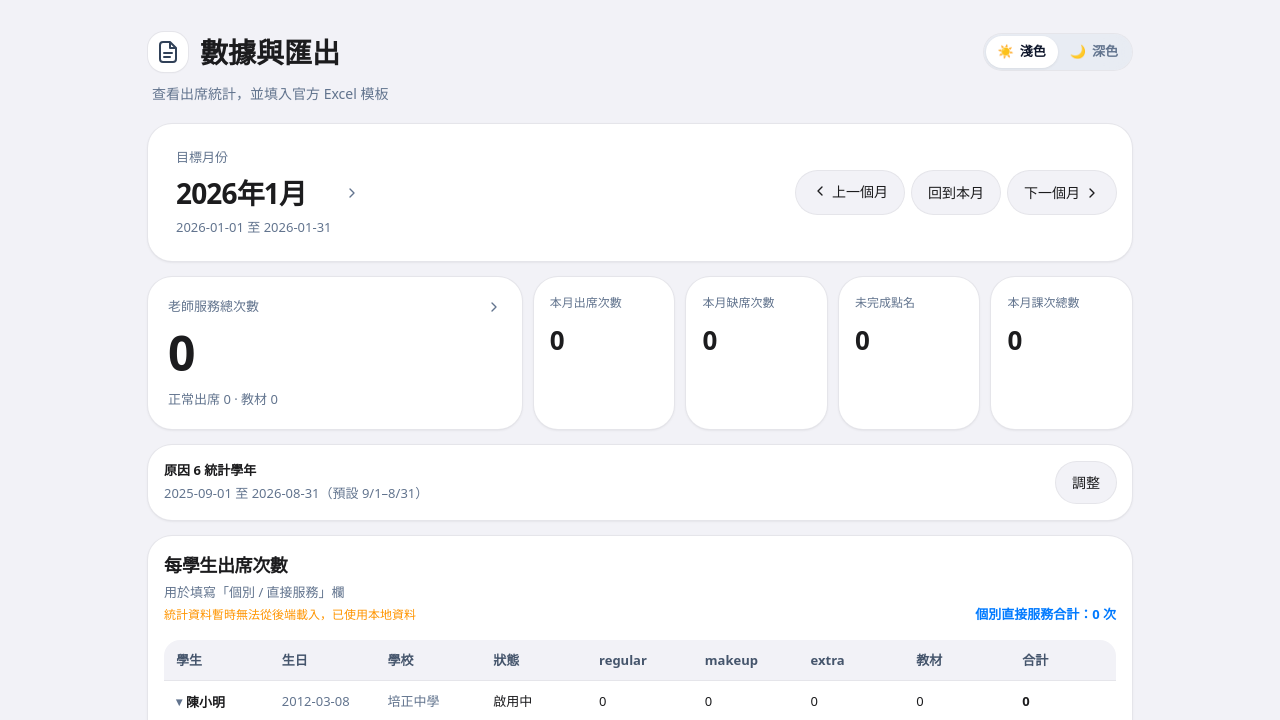
Scenario: DataPage › blocks invalid teacher-service ranges and resets to the default when reopened
Click the button "老師服務總次數 0 正常出席 0 · 教材 0".
click(214, 306)  # box x1=148 y1=277 x2=522 y2=428
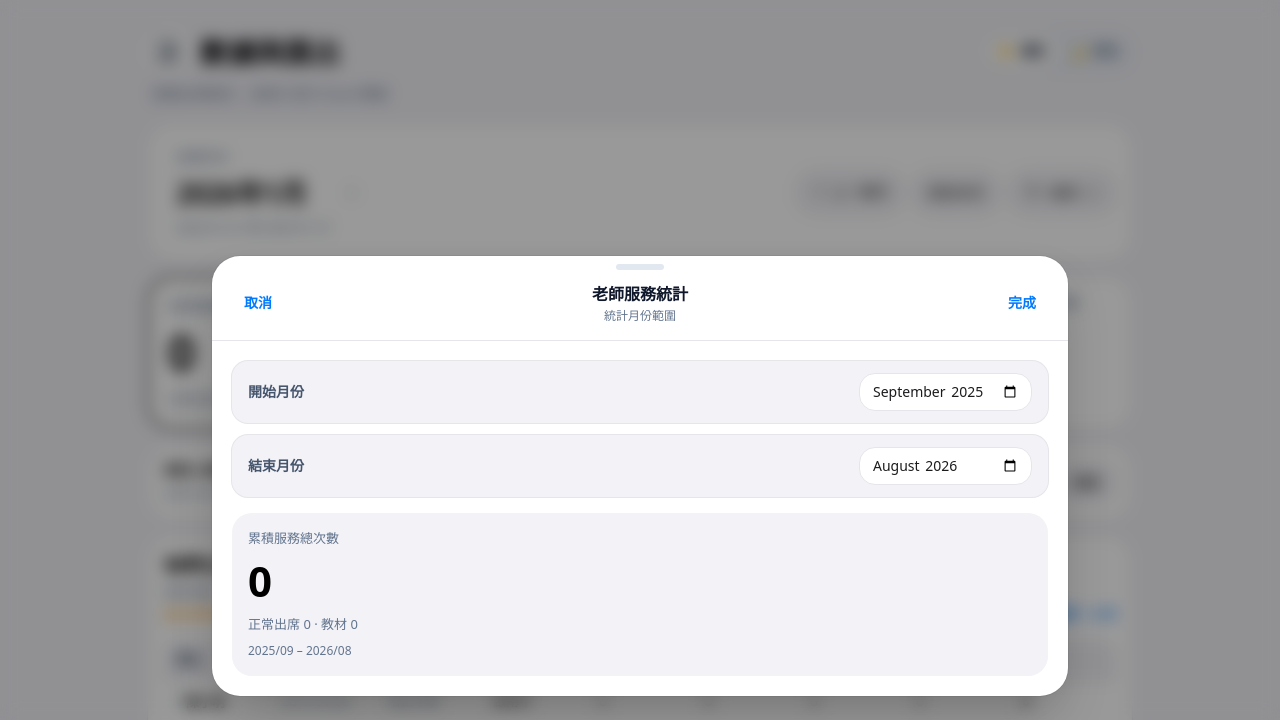
Expected: the field named "開始月份" holds "2025-09"
Expected: the field named "結束月份" holds "2026-08", x1=859 y1=446 x2=1032 y2=484
Replace the text in the field named "開始月份" with "2026-02" at (946, 392), box x1=859 y1=372 x2=1032 y2=410
Replace the text in the field named "結束月份" with "2026-01" at (946, 466), box x1=859 y1=446 x2=1032 y2=484
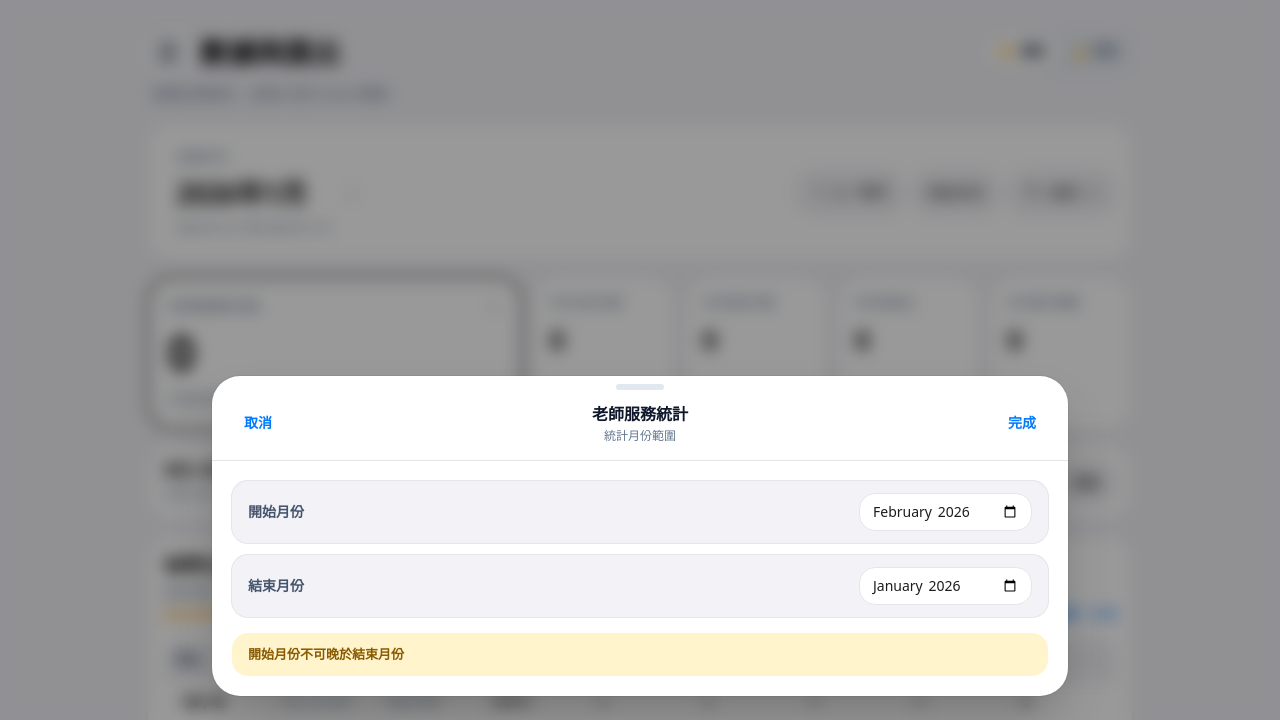
Expected: the message reads "開始月份不可晚於結束月份", x1=248 y1=644 x2=404 y2=662
Expected: the text "累積服務總次數" is gone
Click the button "完成".
click(1022, 422)  # box x1=996 y1=404 x2=1048 y2=440
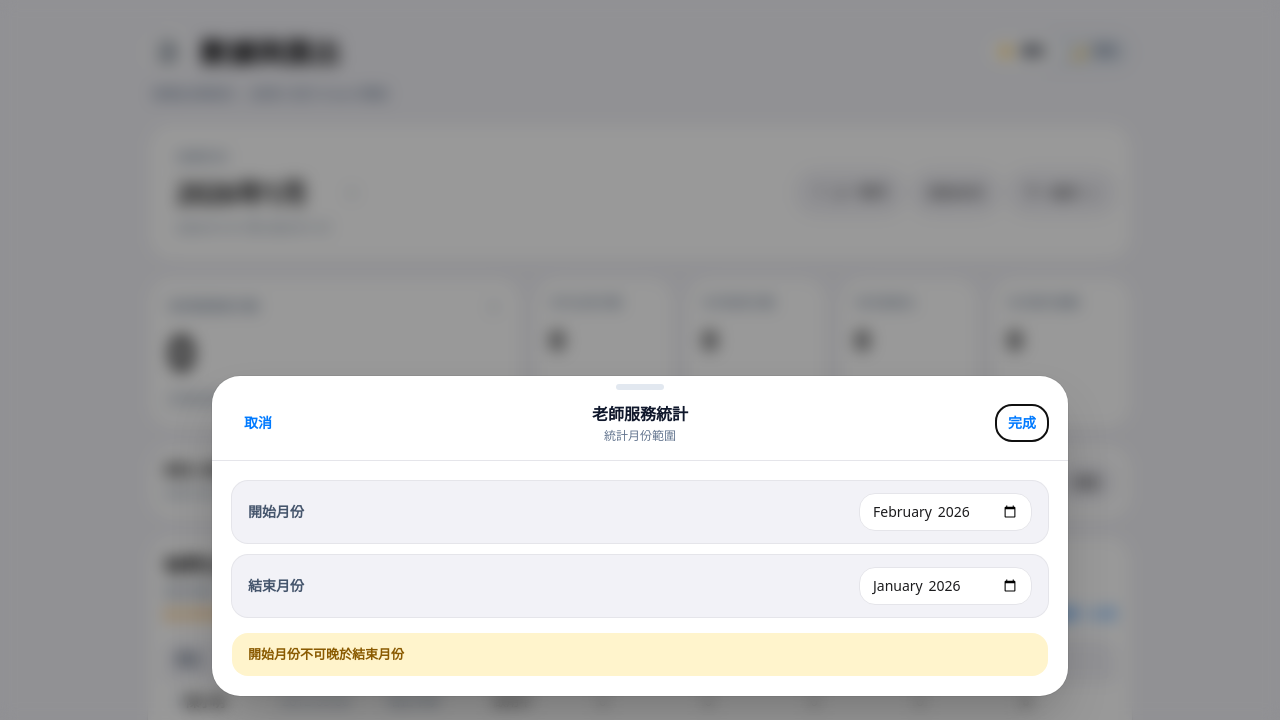
Expected: the text "老師服務統計" is shown, x1=592 y1=402 x2=688 y2=426
Replace the text in the field named "結束月份" with "2027-02" at (946, 586), box x1=859 y1=566 x2=1032 y2=604
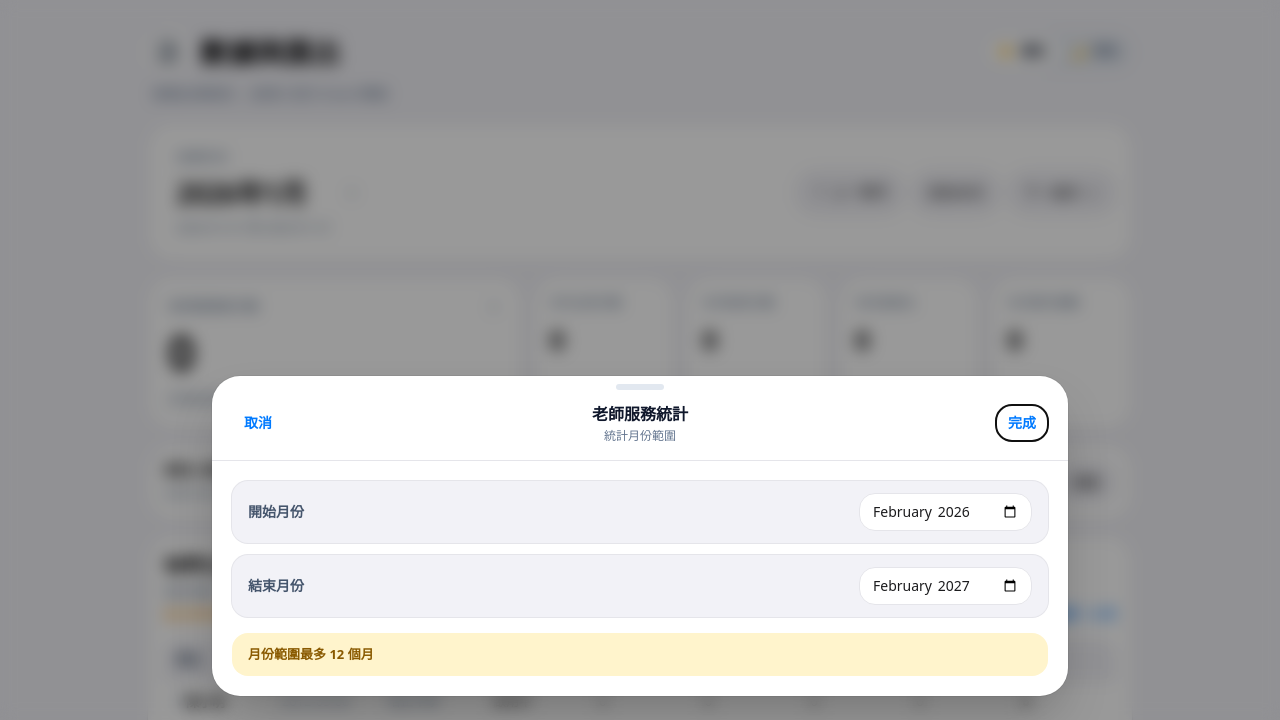
Expected: the text "累積服務總次數" is not shown
Expected: the message reads "月份範圍最多 12 個月", x1=248 y1=644 x2=374 y2=662
Click the button "取消".
click(258, 422)  # box x1=232 y1=404 x2=284 y2=440
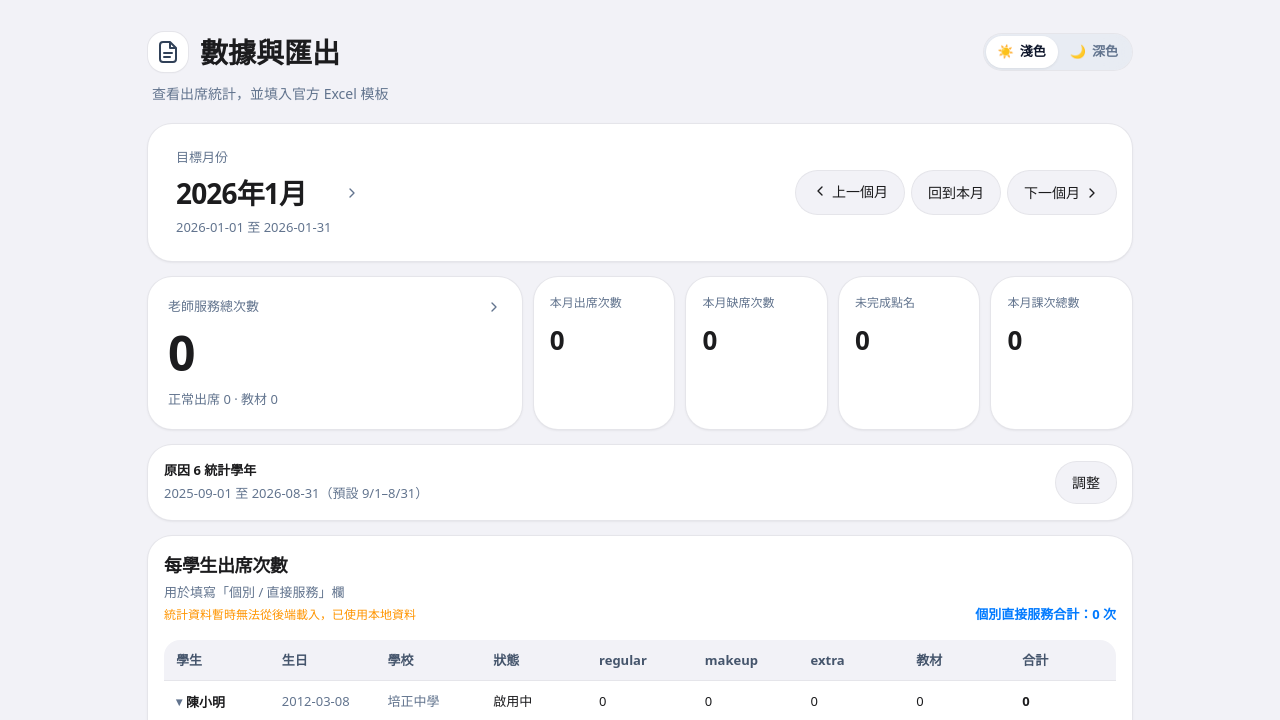
Click the button "老師服務總次數 0 正常出席 0 · 教材 0".
click(214, 306)  # box x1=148 y1=277 x2=522 y2=428
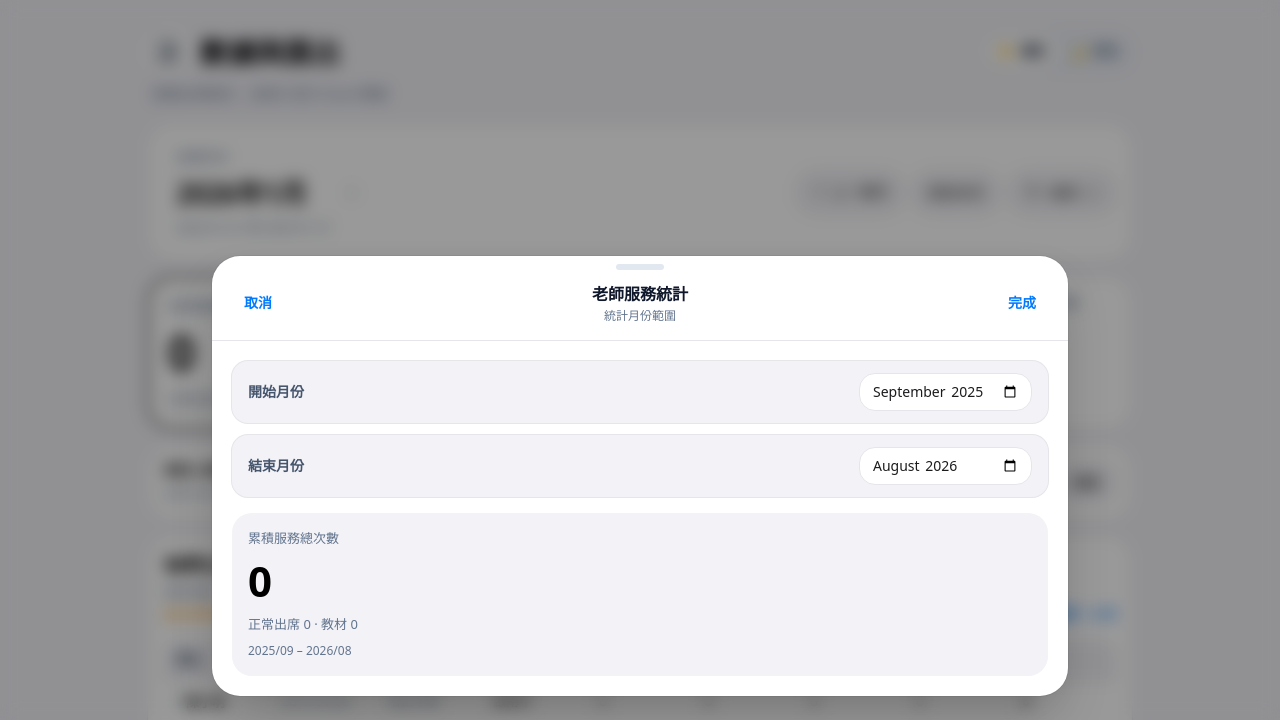
Expected: the field named "開始月份" holds "2025-09", x1=859 y1=372 x2=1032 y2=410
Expected: the field named "結束月份" holds "2026-08", x1=859 y1=446 x2=1032 y2=484
